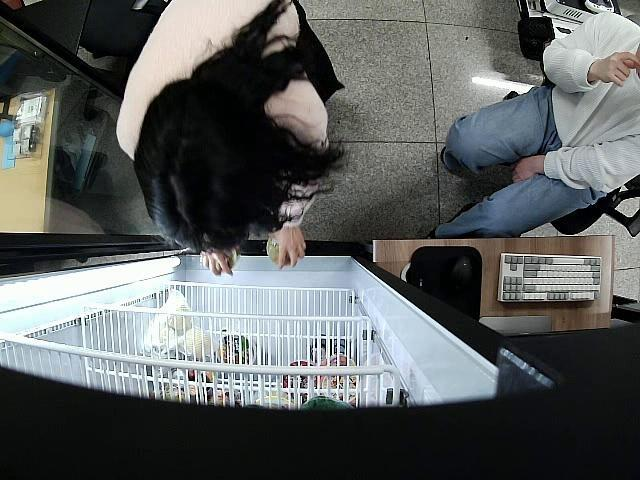04_chapagetti_S: (264, 235, 291, 268)
